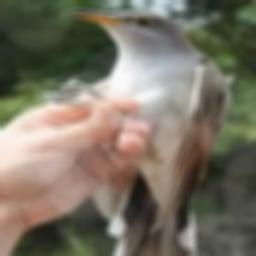Cuckoo: (49, 9, 231, 256)
